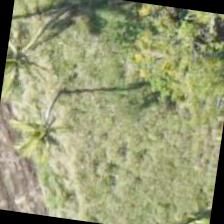Kelapa_Sawit: (0, 74, 91, 176), (0, 14, 77, 112), (153, 175, 215, 223)
